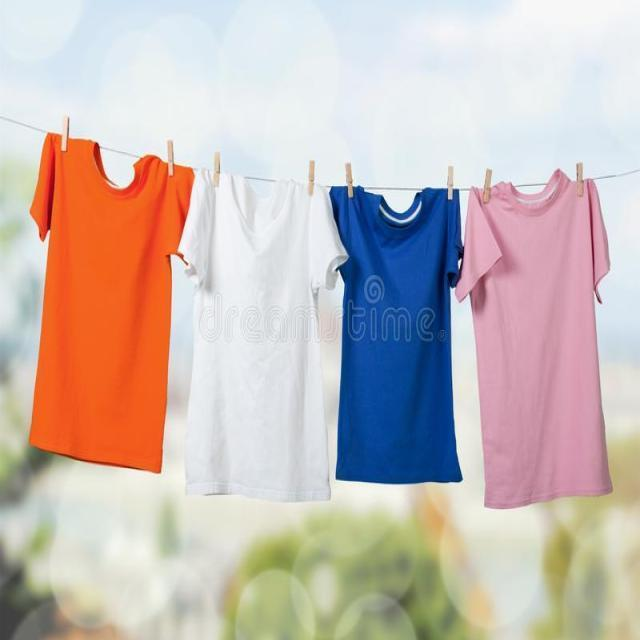clothes: (23, 112, 180, 480), (195, 148, 334, 510), (478, 177, 612, 513), (334, 180, 460, 498)
